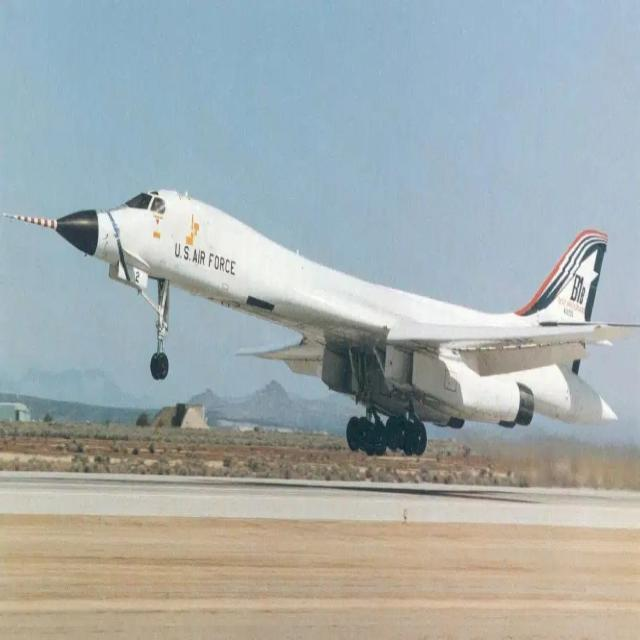MIL_Plane: (2, 191, 639, 454)
